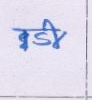i_matra: (45, 19, 65, 47)
